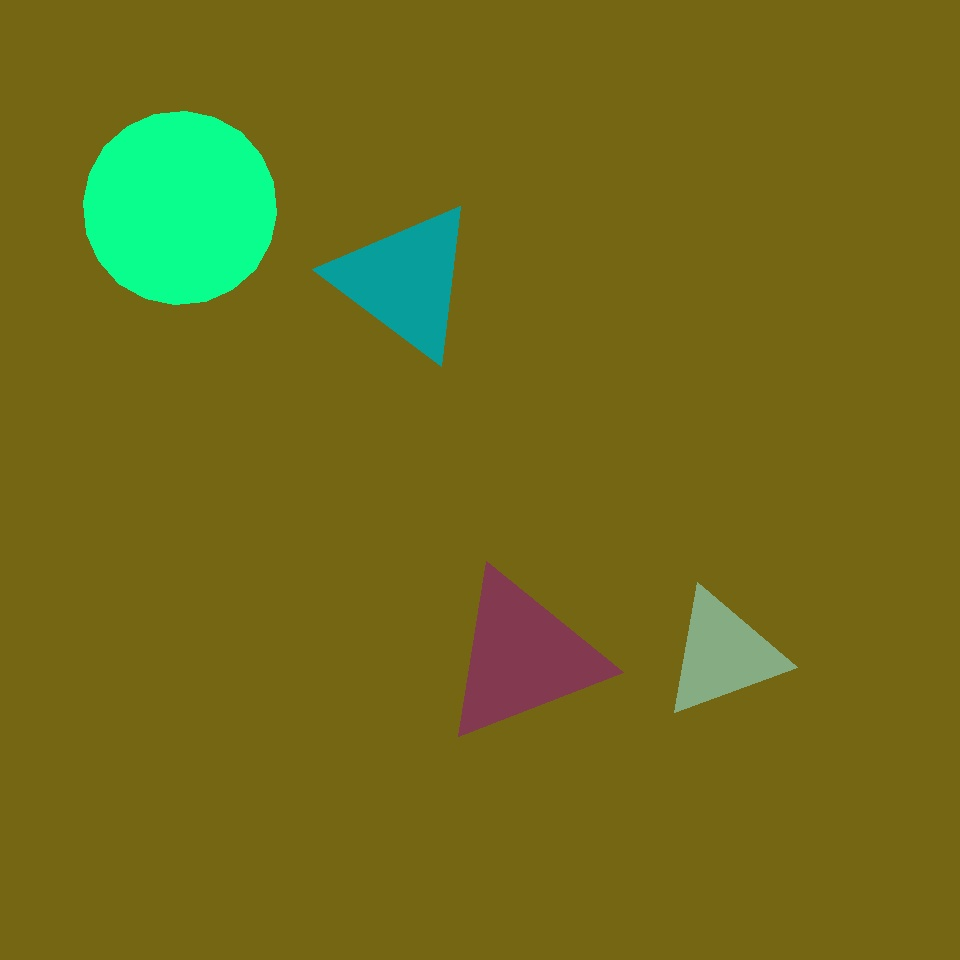circle: (350, 96, 660, 396), (440, 569, 606, 744), (331, 201, 479, 361), (662, 589, 785, 719)
triangle: (84, 112, 276, 304), (483, 101, 654, 272), (435, 592, 529, 686)
